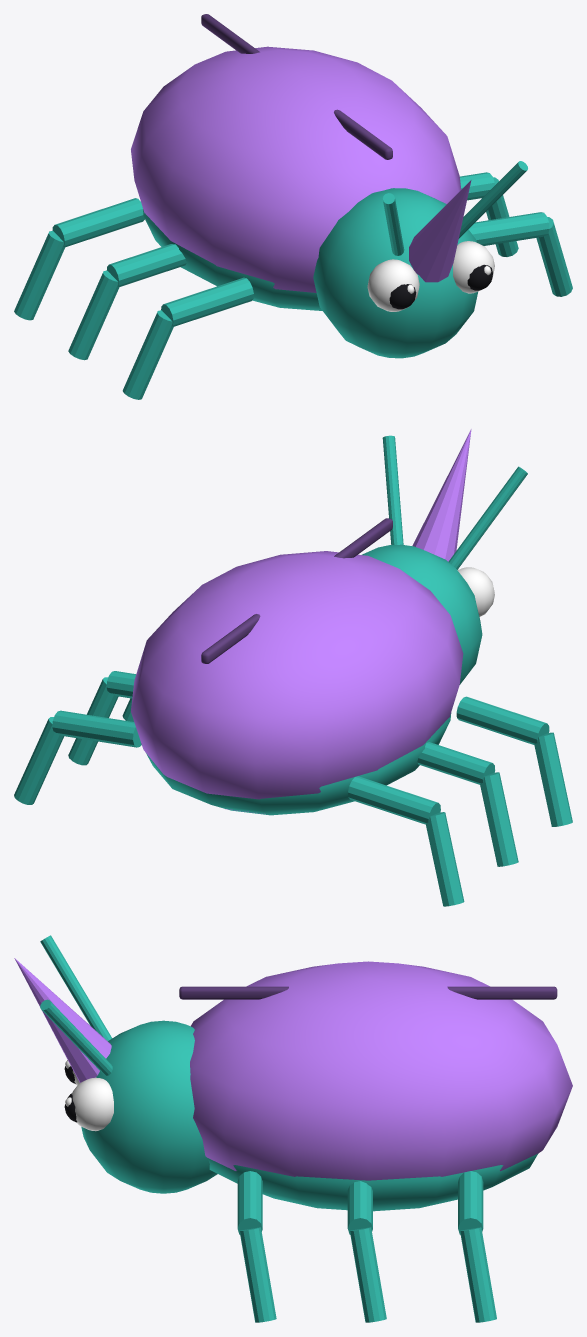
3 renders of one model, top to bottom at view 1: azimuth 30°, elevation 25°; view 2: azimuth 150°, elevation 25°; view 3: azimuth 270°, elevation 25°, orthographic.
Visible parts, largest first — view 1: Gem Beetle; view 2: Gem Beetle; view 3: Gem Beetle.
Boxes of the visible parts, x1=… form: Gem Beetle: x1=14, y1=14, x2=572, y2=399; Gem Beetle: x1=14, y1=429, x2=572, y2=906; Gem Beetle: x1=14, y1=935, x2=572, y2=1322.
Size of the model in its own units: 3.33 by 1.83 by 3.55.
1 material, 1 textured.
